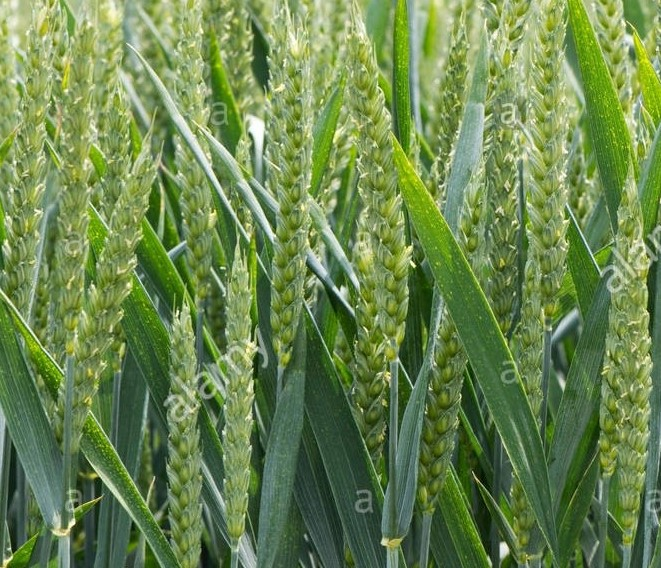Healthy Wheat: (265, 20, 422, 423), (12, 26, 151, 435), (519, 7, 611, 298)
